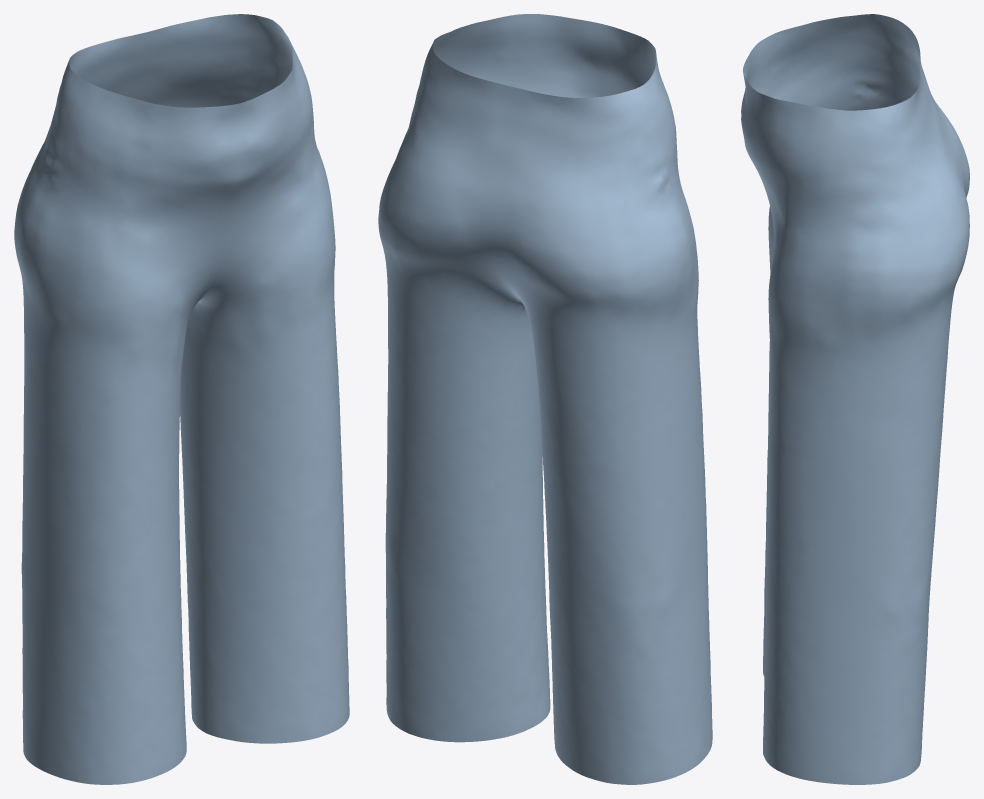
File: trousers_XXL.glb
3 views of the same model, side by side, from view 1: azimuth 30°, elevation 25°; view 2: azimuth 150°, elevation 25°; view 3: azimuth 270°, elevation 25° (orthographic). The views are drawn at different scales.
Visible parts, largest first — view 1: geometry_0; view 2: geometry_0; view 3: geometry_0.
Boxes of the visible parts, x1=… form: geometry_0: x1=14, y1=14, x2=349, y2=784; geometry_0: x1=378, y1=14, x2=712, y2=784; geometry_0: x1=741, y1=14, x2=969, y2=784.
Bounding box in the file's own units: 0.4708 × 1.02 × 0.3222.
